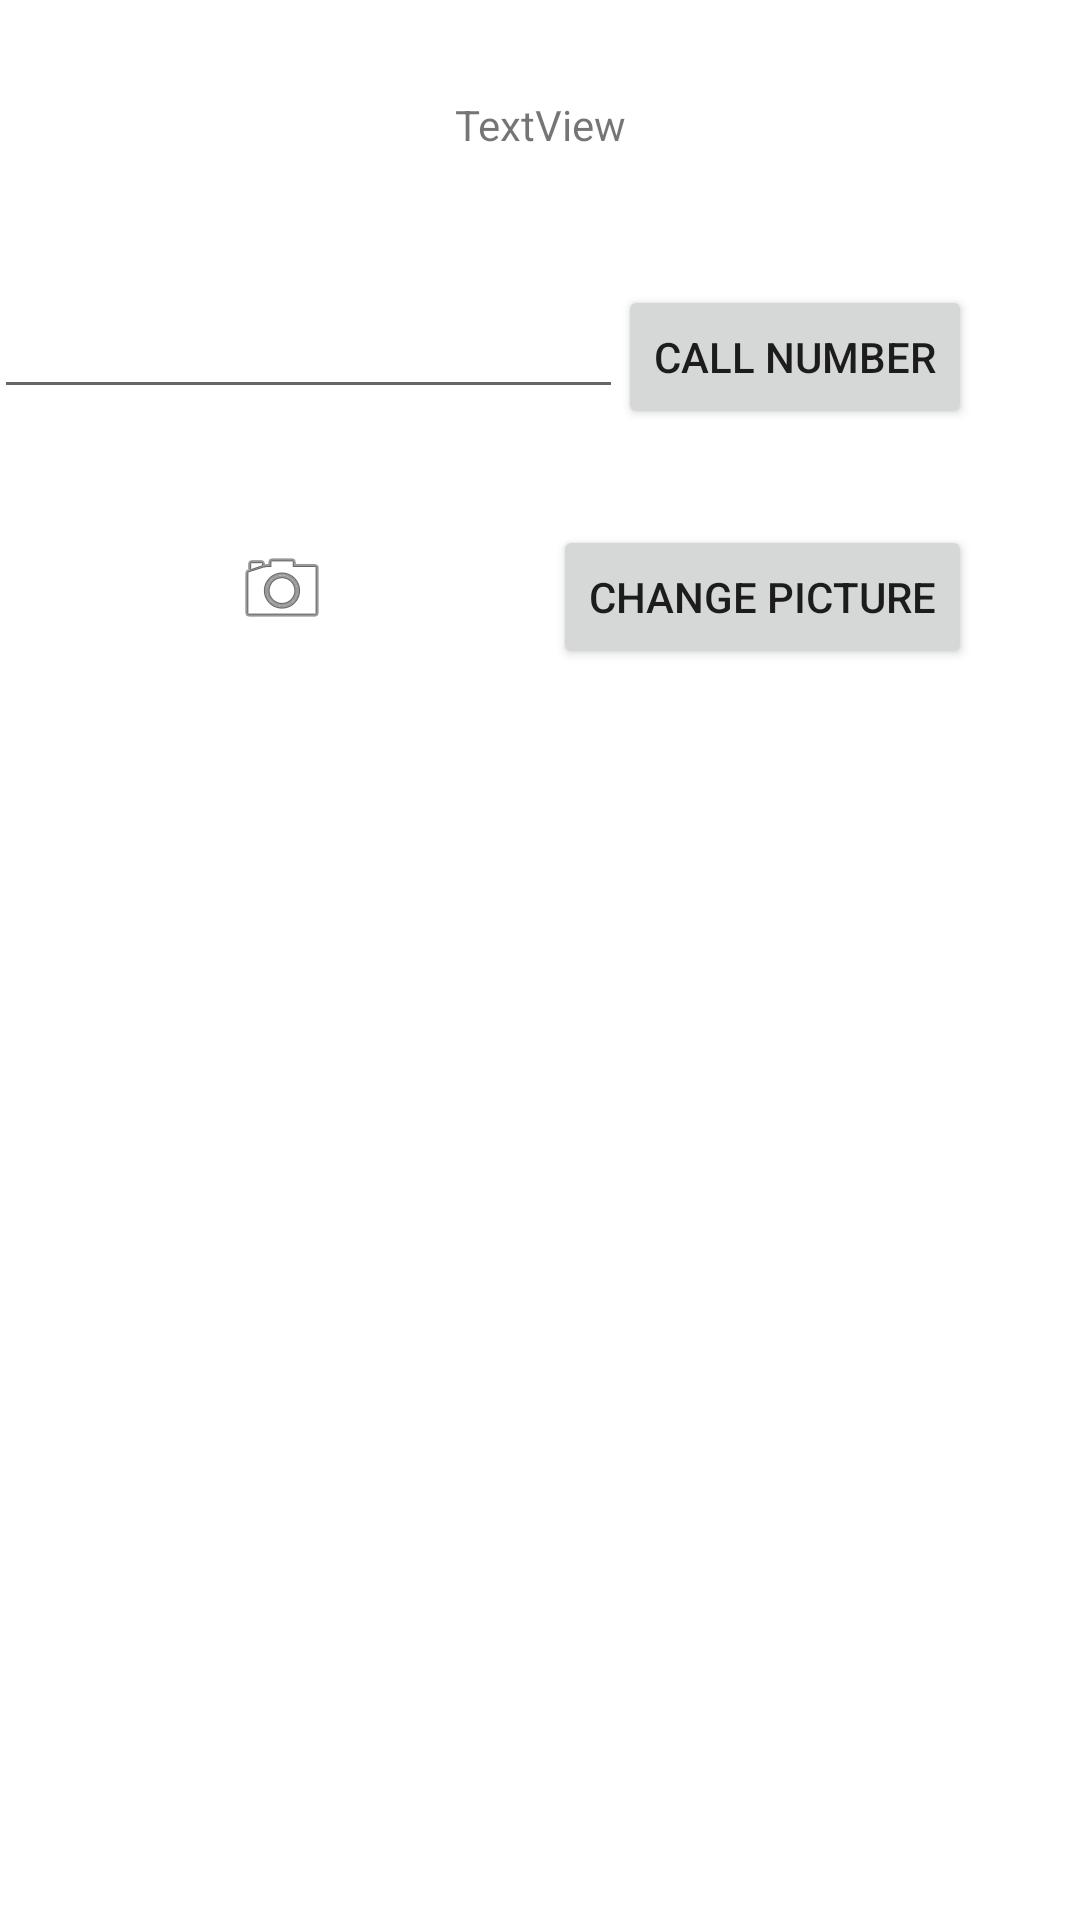

Icon click points for this 1080w x 1920h phone screenshot, format (x=x, y=y):
camera: (x=282, y=587)
